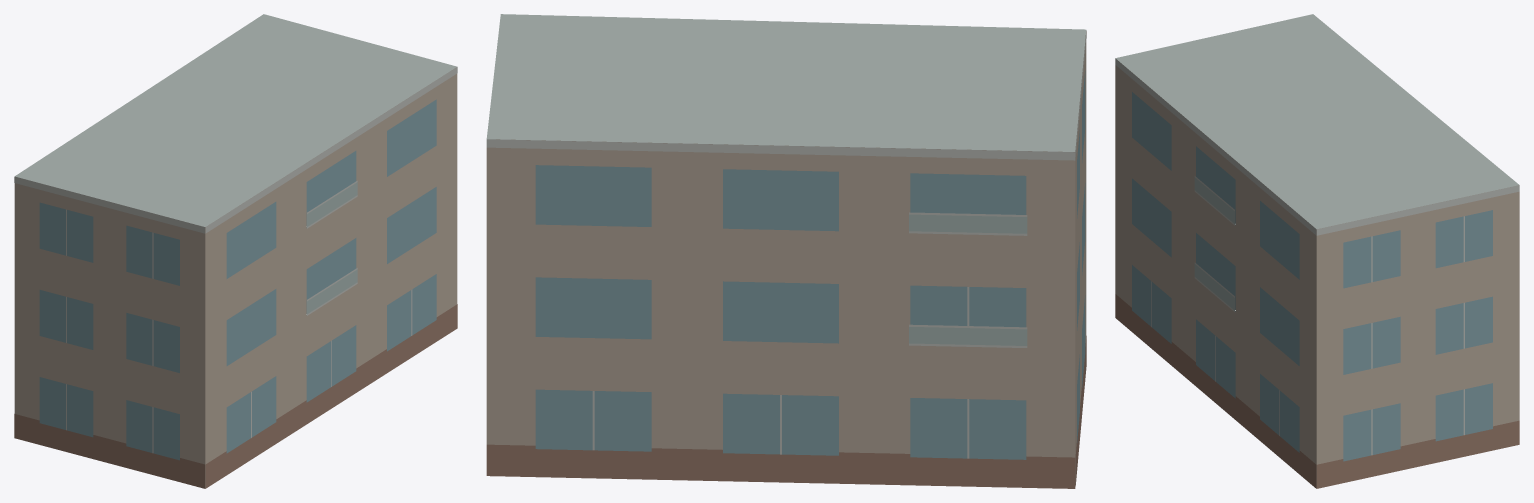
File: survey-upis-32747023.glb
3 views of the same model, side by side, from view 1: azimuth 30°, elevation 25°; view 2: azimuth 150°, elevation 25°; view 3: azimuth 270°, elevation 25° (orthographic). The views are drawn at different scales.
Parts seen in each view (by area): view 1: survey-upis-32747023.tmp; view 2: survey-upis-32747023.tmp; view 3: survey-upis-32747023.tmp.
Boxes of the visible parts, bbox=[...] form: survey-upis-32747023.tmp: bbox=[14, 14, 457, 488]; survey-upis-32747023.tmp: bbox=[486, 14, 1086, 488]; survey-upis-32747023.tmp: bbox=[1115, 14, 1519, 488].
Size of the model in its own units: 17.26 by 9.7 by 13.7.
